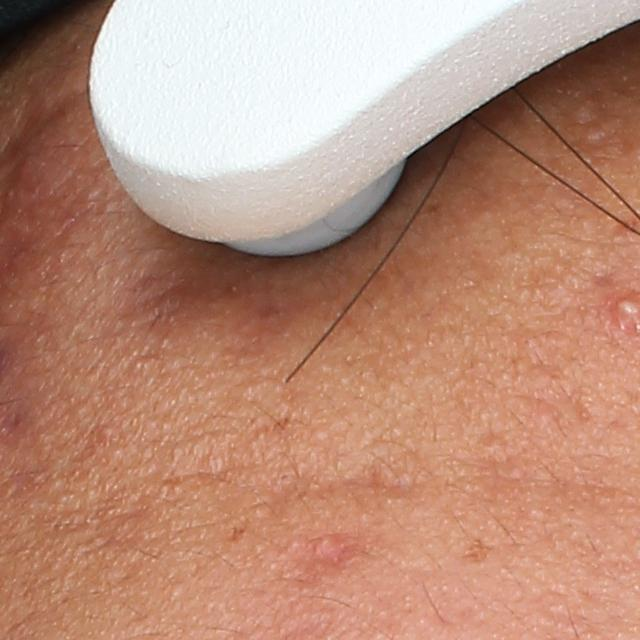atrophic_scar: (163, 375, 351, 514), (120, 260, 321, 347), (264, 533, 385, 587), (355, 457, 457, 500)
